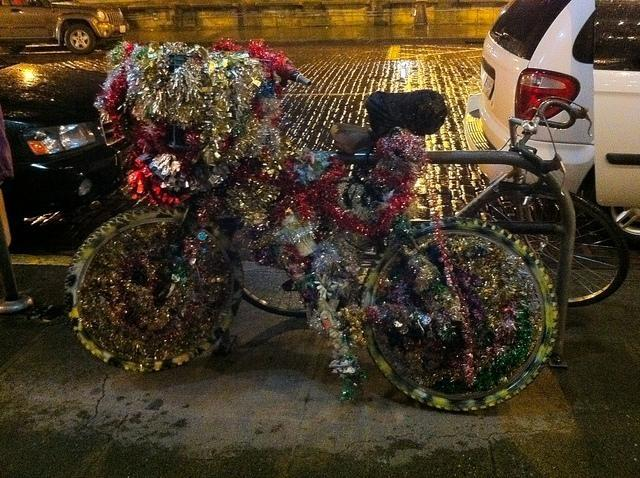bicycle: (68, 40, 564, 418), (242, 90, 636, 318)
car: (465, 1, 640, 250), (0, 45, 131, 245)
truck: (0, 0, 130, 59)
